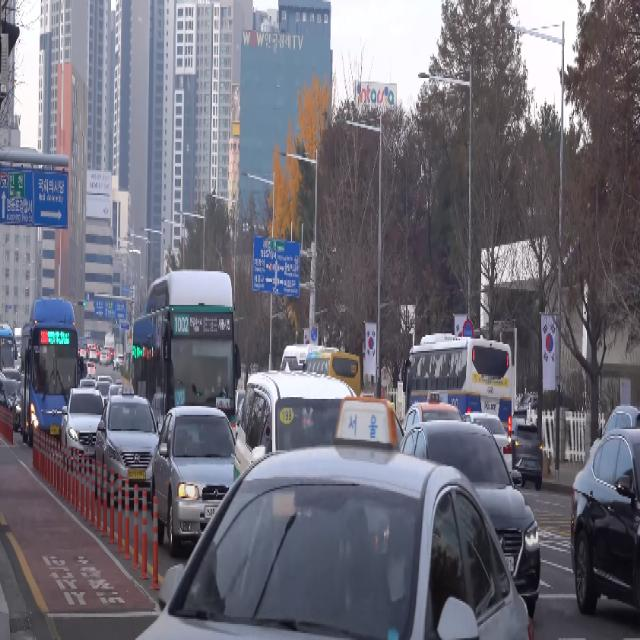bus-number: (174, 316, 188, 333), (40, 331, 48, 343)
